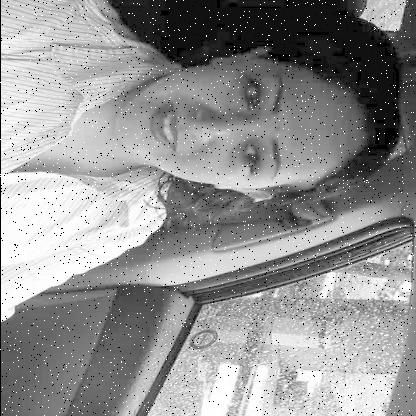no_seatbelt: (0, 46, 395, 229)
